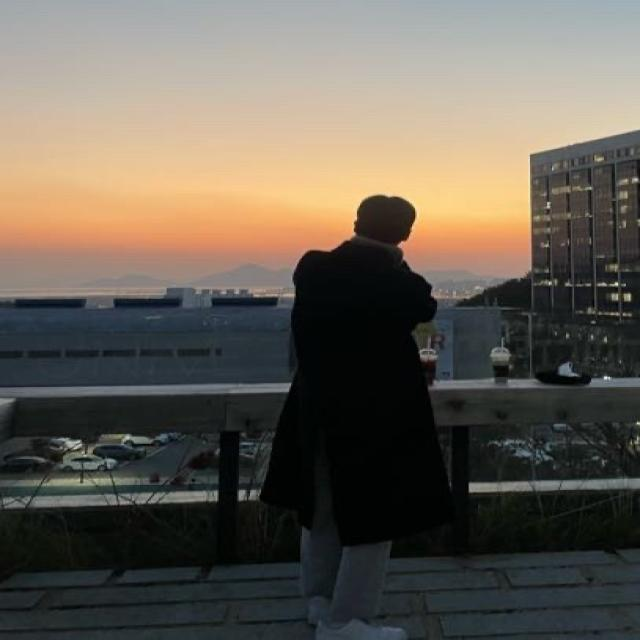coat: (261, 246, 454, 544)
denimpants: (304, 438, 393, 621)
